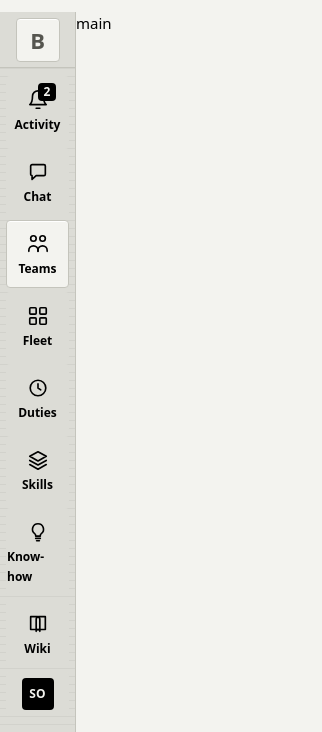
Shell › opens the account menu with the theme, Where to reach me, Connections, and Sign out
Click the button with class "account-key".
click(38, 694)  # box [6,672,69,716]
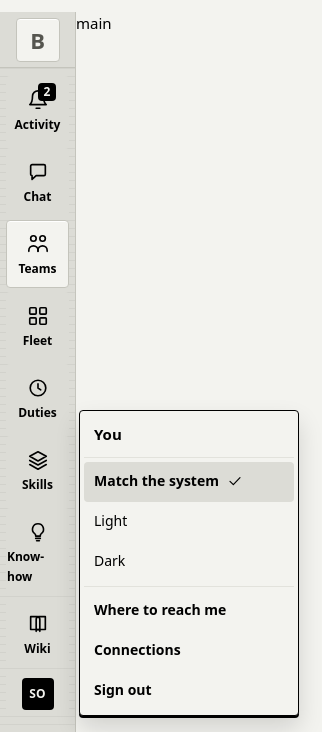
Check: the menu item "Match the system" is shown, box [84,462,294,502]
